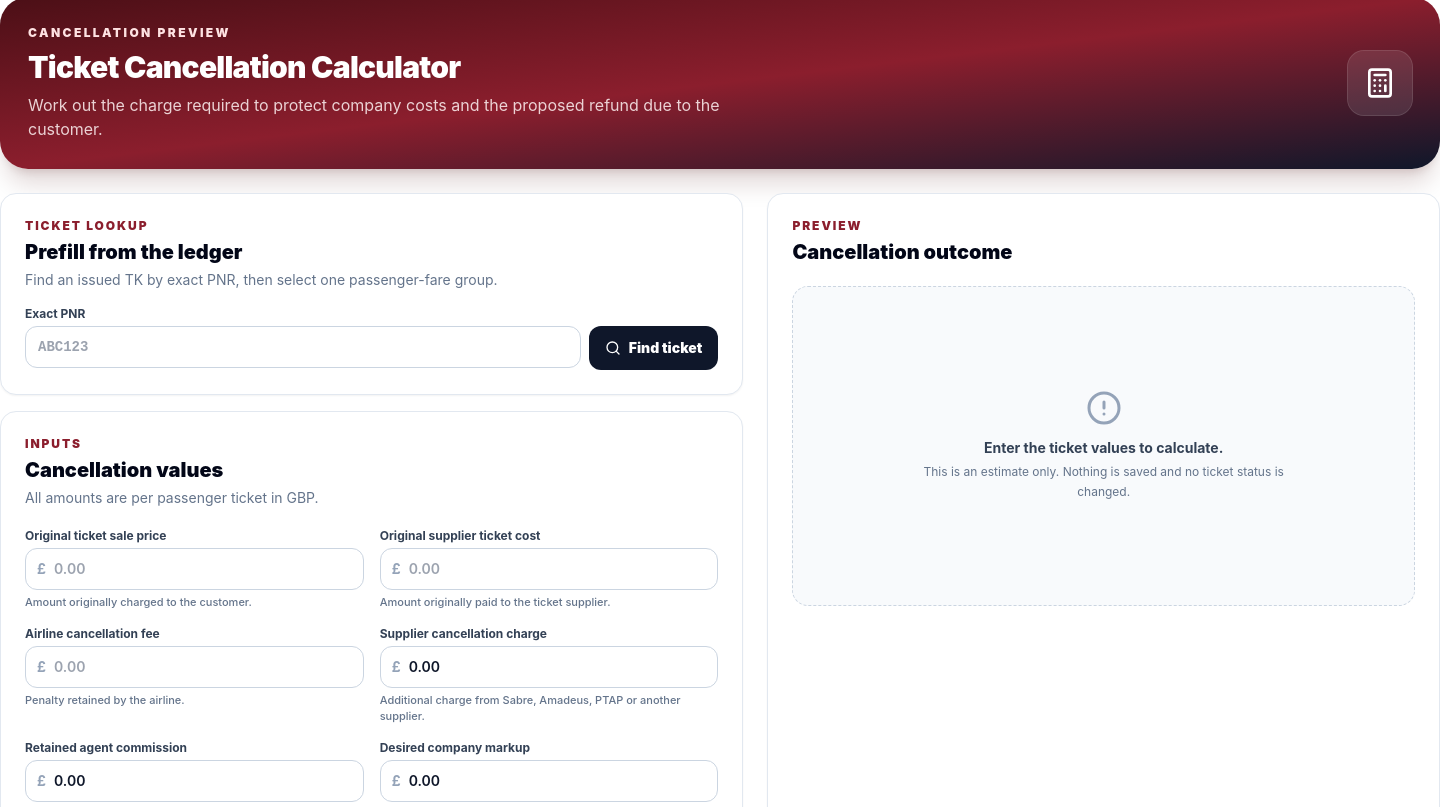
Test case: TicketCancellationCalculator › locks a staff/family refund to airline fee plus the £25 admin fee
Type "FAMILY1" into the field named "Exact PNR for cancellation" at point(303, 347), box [25, 326, 581, 368]
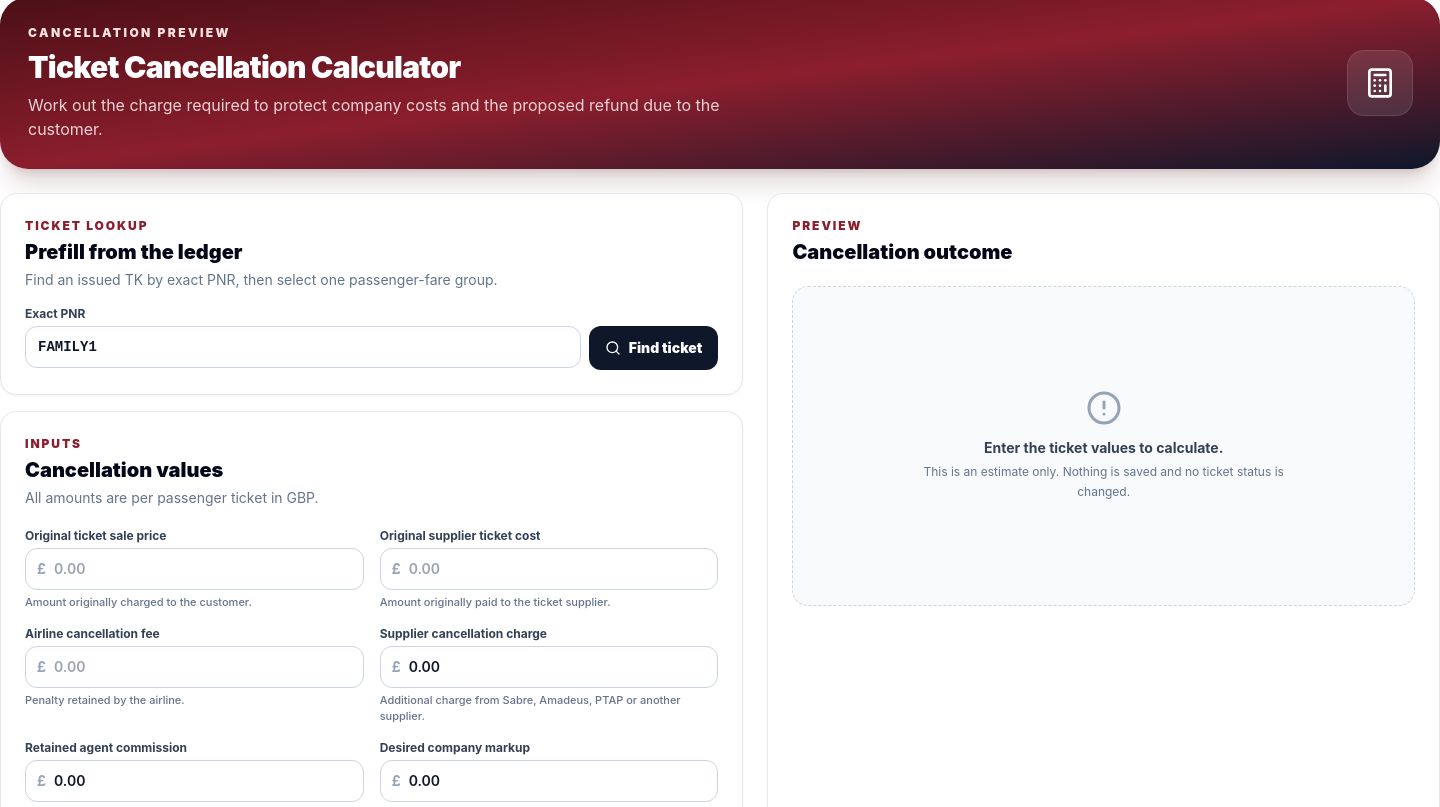
Click the button "Find ticket" at point(654, 348), box [589, 326, 718, 370]
(page scrolled)
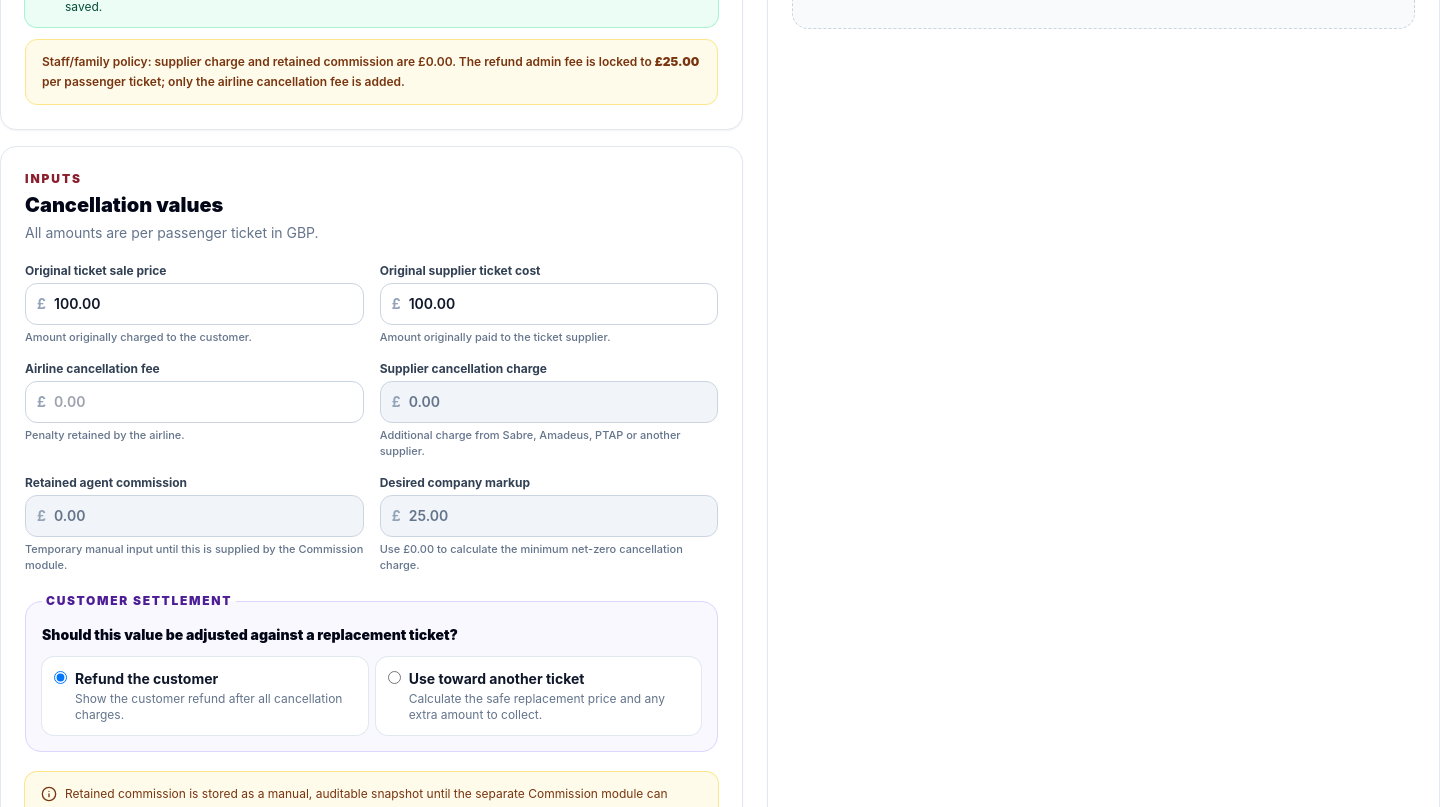
Check: the text "supplier charge and retained commission are £0.00" is shown, box [42, 54, 652, 69]
Check: the field labelled "Supplier cancellation charge" is disabled, box [380, 381, 718, 423]
Check: the field labelled "Retained agent commission" is disabled, box [25, 495, 364, 537]
